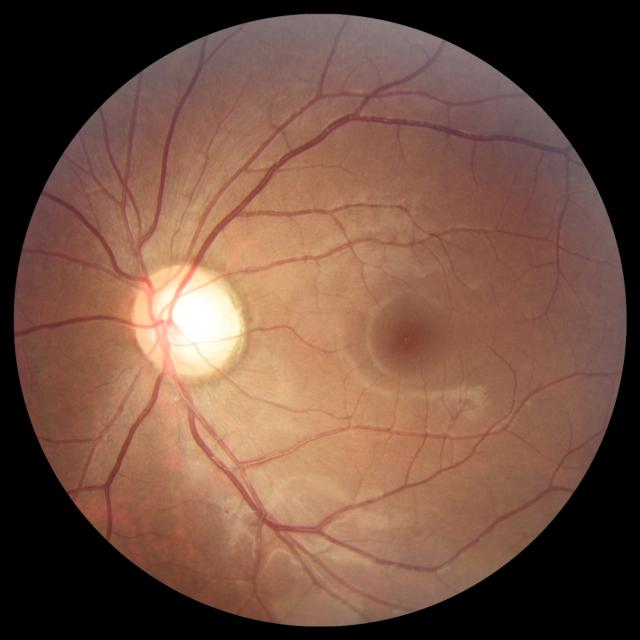OC: (147, 277, 236, 365)
OD: (132, 260, 242, 378)
